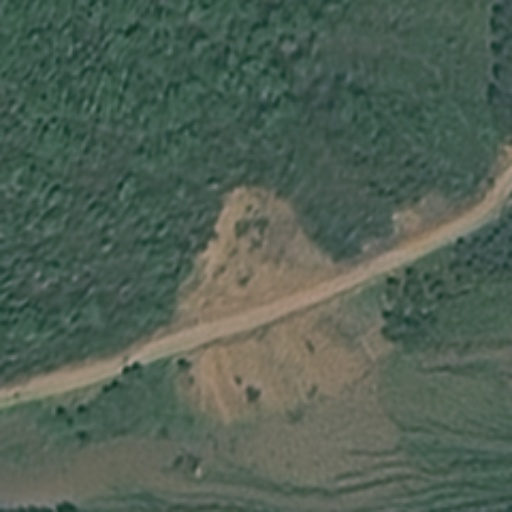landslide: (172, 187, 331, 303)
